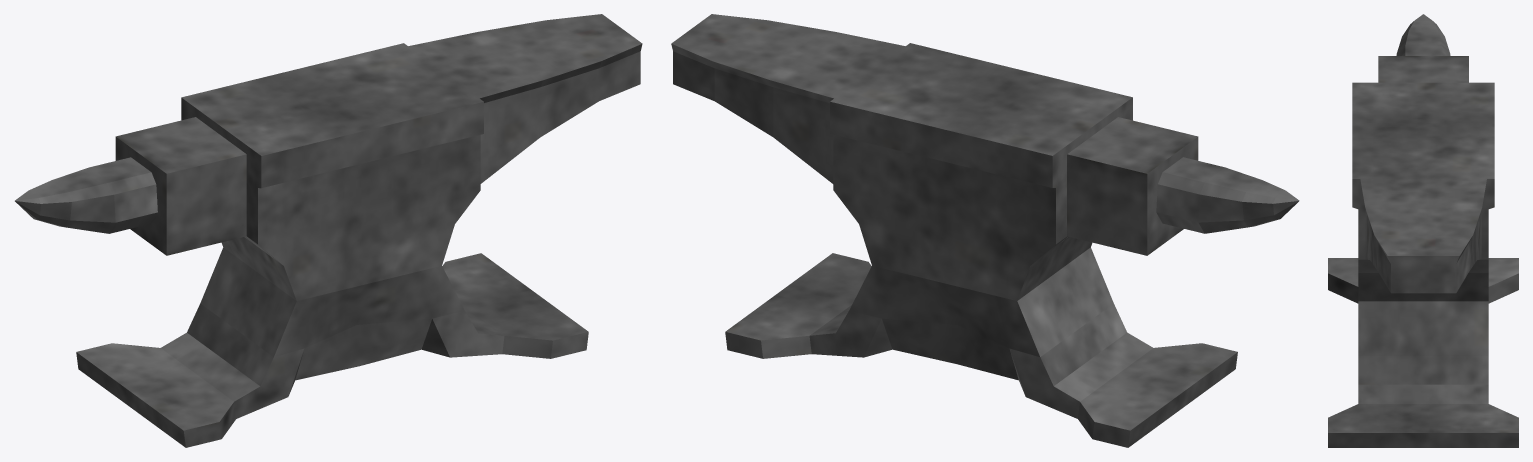
The model's file is Anvil (1).fbx.
3 renders of one model, left to right at view 1: azimuth 30°, elevation 25°; view 2: azimuth 150°, elevation 25°; view 3: azimuth 270°, elevation 25°, orthographic. The views are drawn at different scales.
Parts seen in each view (by area): view 1: Anvil; view 2: Anvil; view 3: Anvil.
Boxes of the visible parts, x1,y1,x2,y2 form: Anvil: (15,14,642,447); Anvil: (671,14,1299,447); Anvil: (1328,14,1518,447).
Size of the model in its own units: 200 by 81.64 by 61.19.
